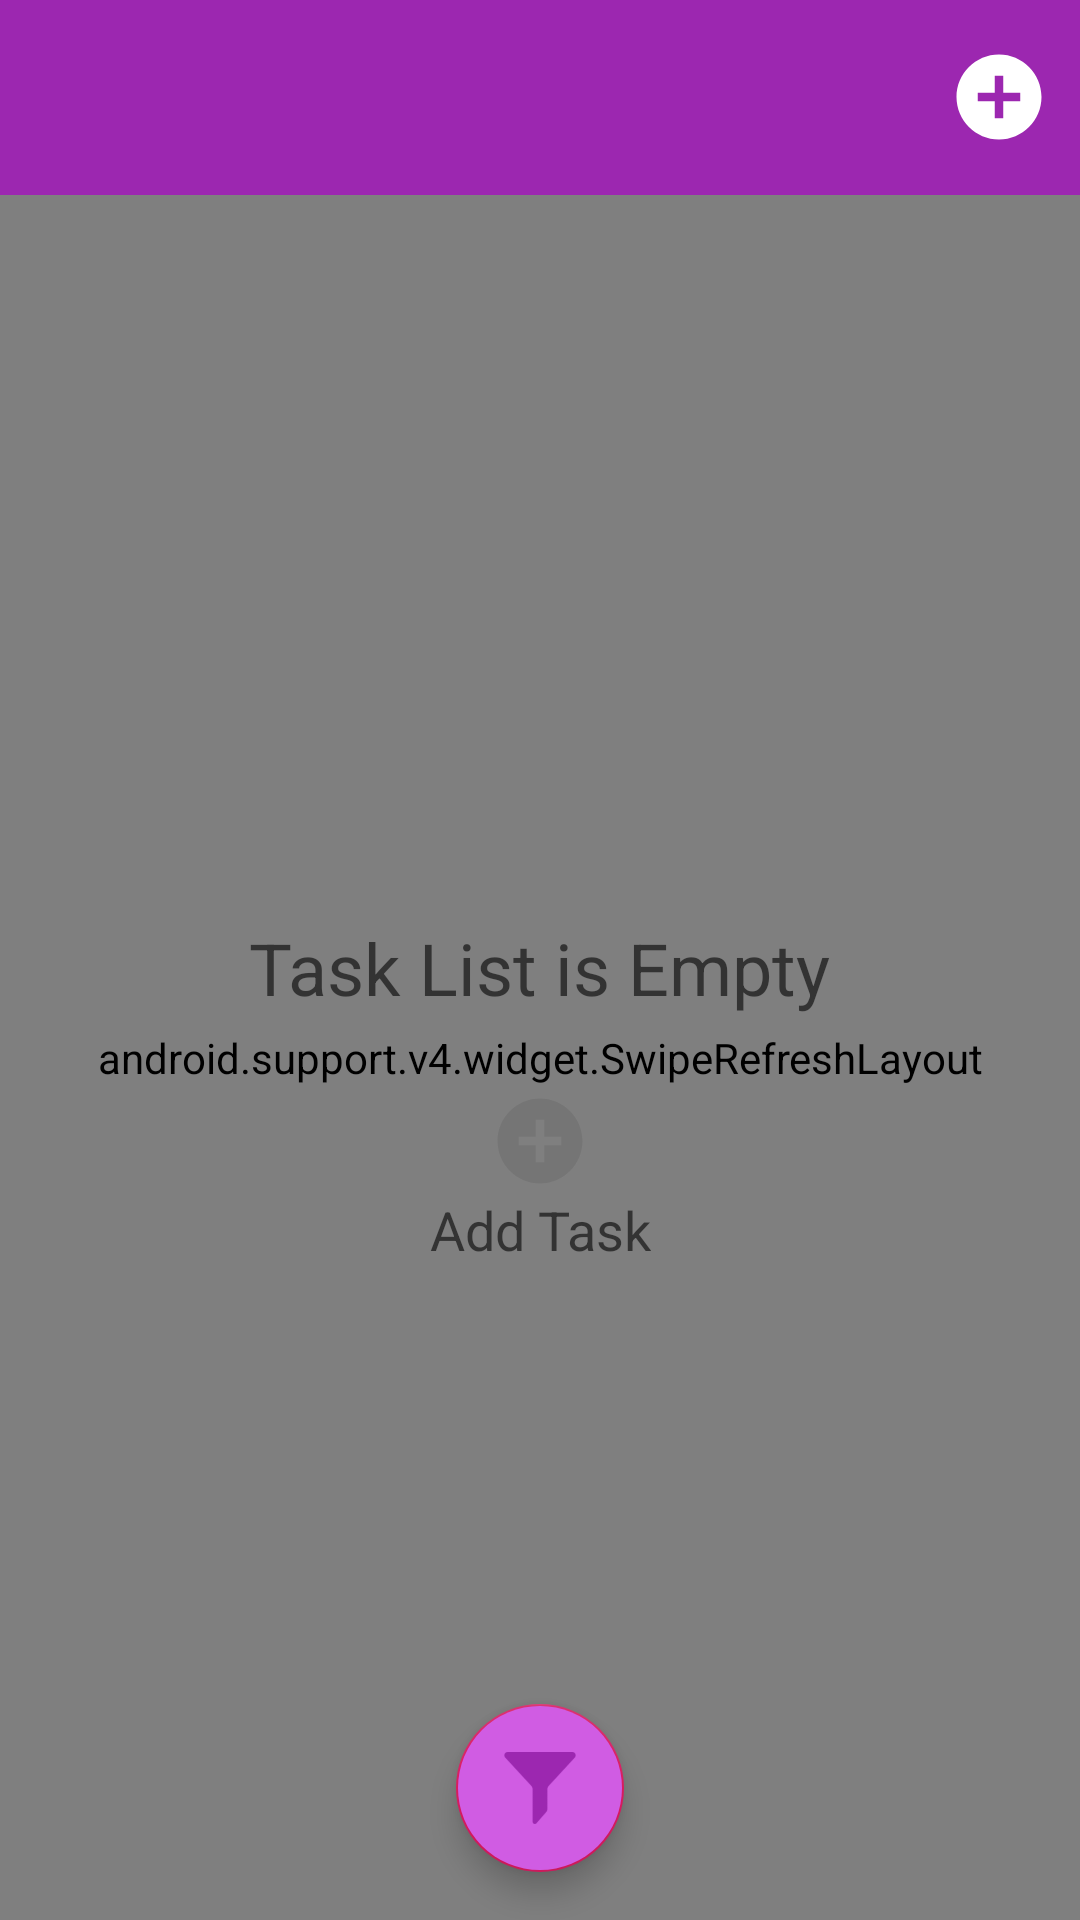

Named icons in this screenshot (1080px x 1920px) and their bounding boxes, (x1=x1, y1=y1, x2=x2, y2=y2):
filter: (x1=456, y1=1704, x2=624, y2=1872)
